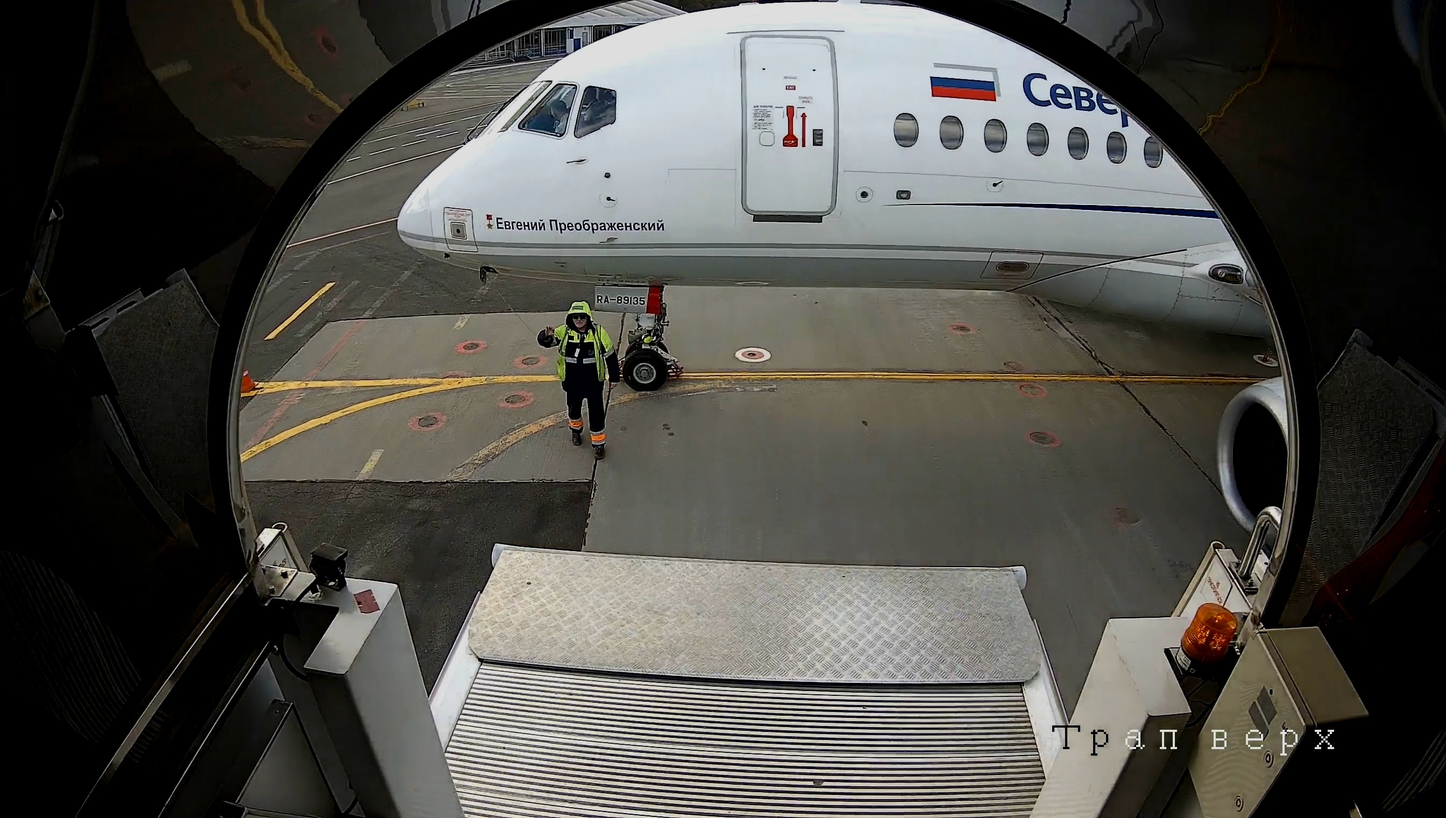boots: (662, 353, 692, 385)
wheels: (621, 348, 668, 392), (622, 333, 672, 366)
